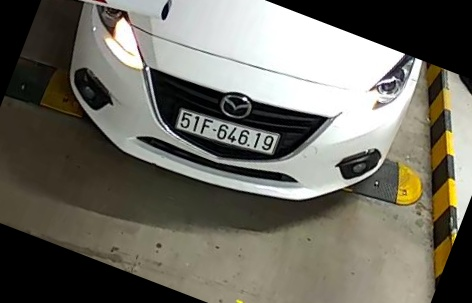plate: (177, 107, 285, 165)
